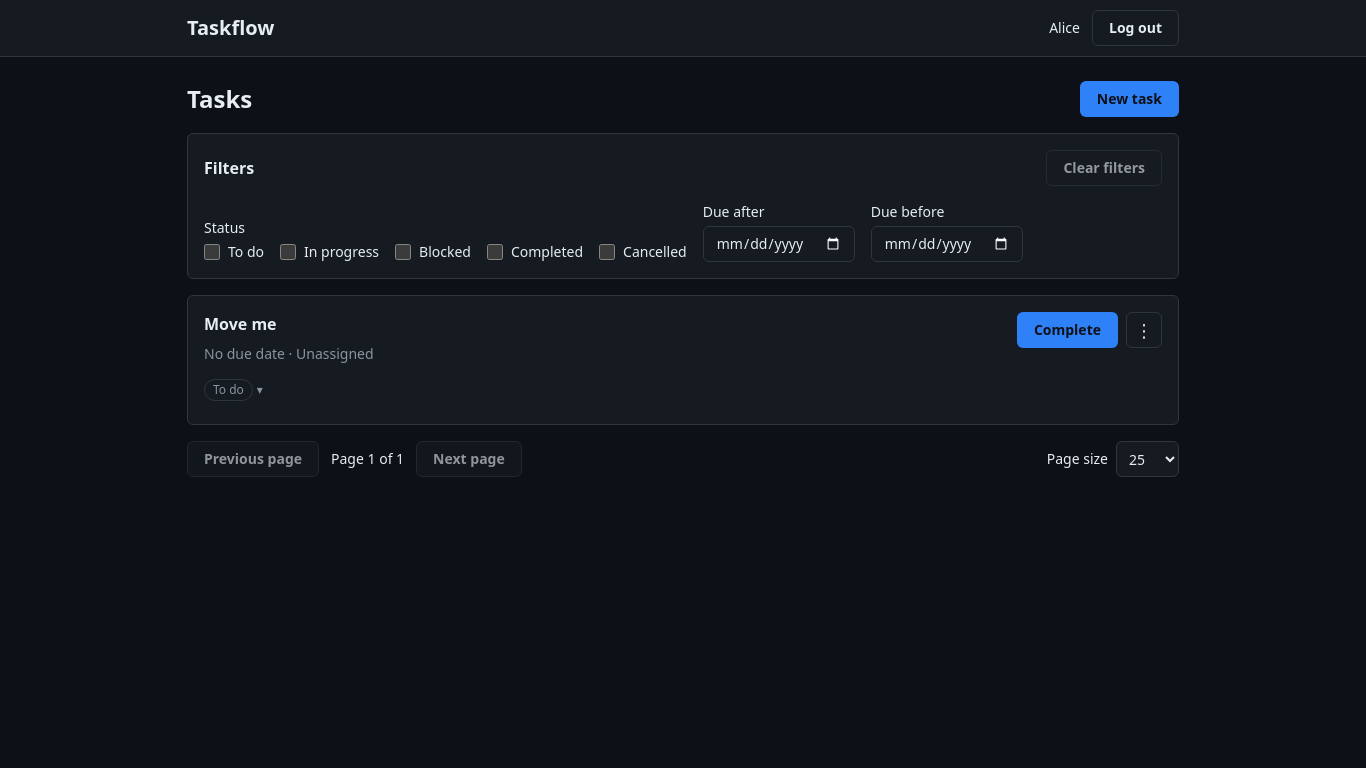
Test case: status, complete and permissions › test_ac07_changing_the_status_updates_the_list_without_a_reload
Click the button with aria-label "change status" at [233, 390], box [204, 372, 263, 408]
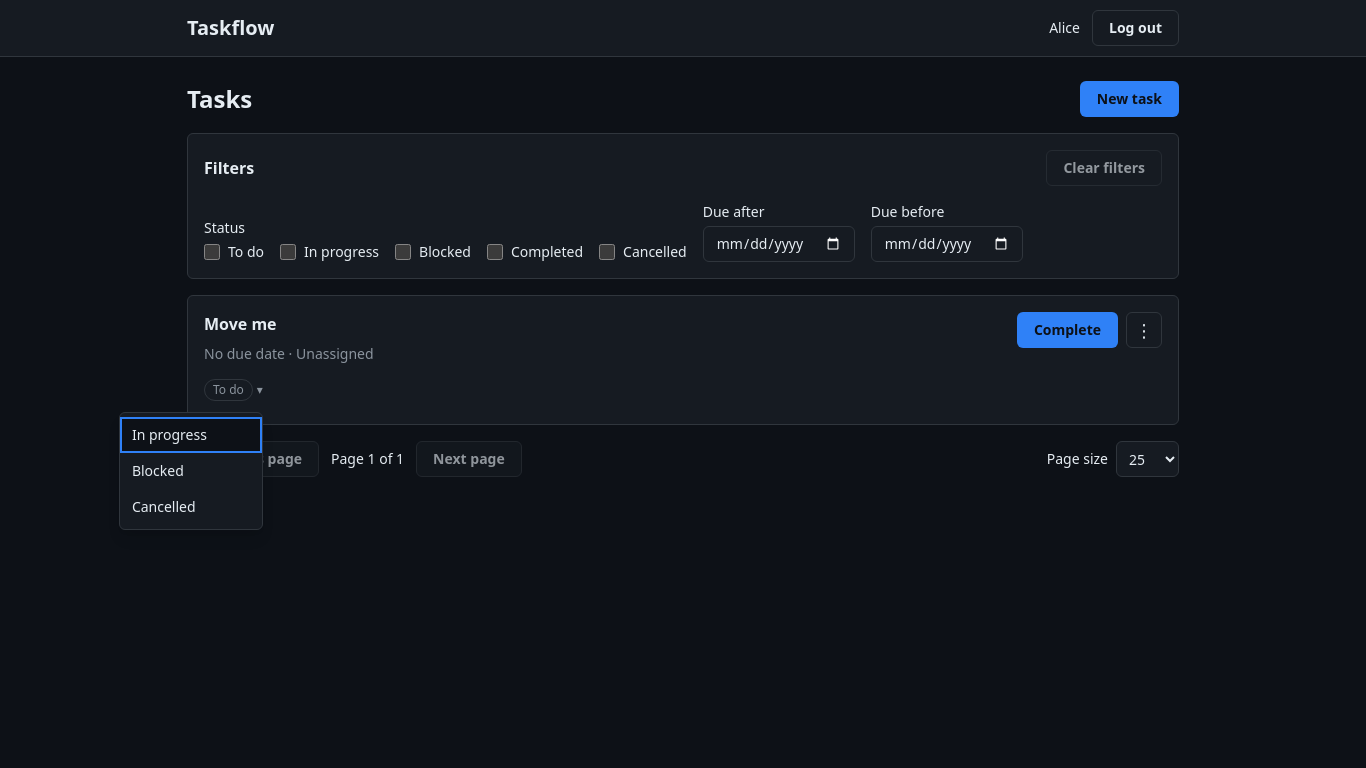
Click the menu item "Blocked" at [191, 471], box [120, 453, 262, 489]
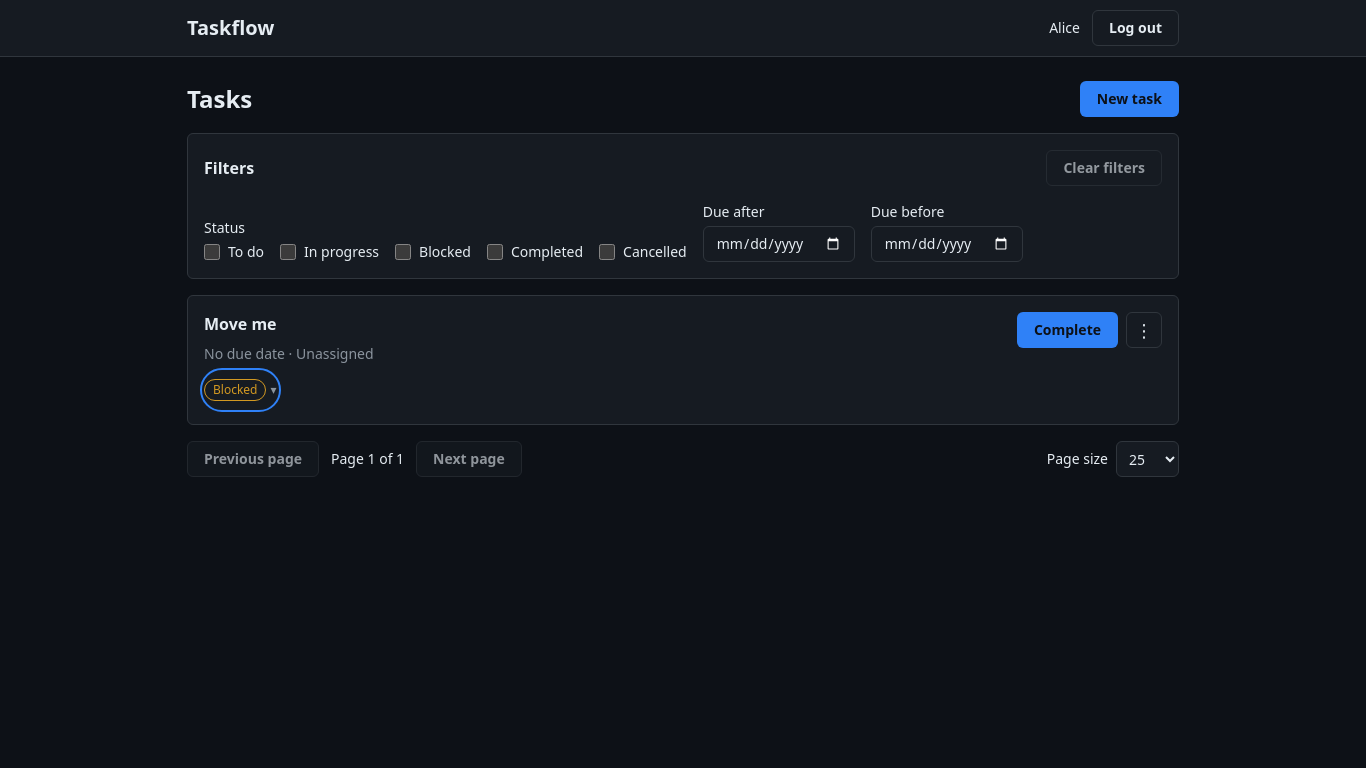
Now the text "Blocked" is shown, box [204, 379, 266, 401]
